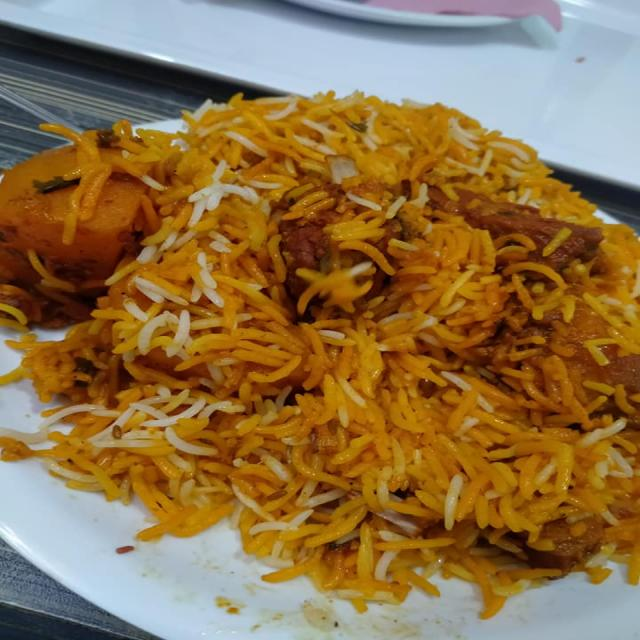Biryani: (2, 95, 636, 537)
